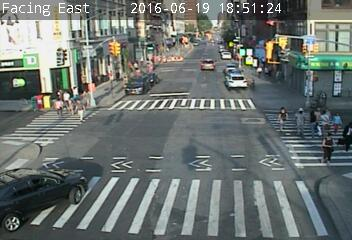neg: (199, 60, 225, 95), (28, 164, 51, 195), (89, 180, 110, 207), (165, 47, 184, 72), (68, 179, 86, 204), (190, 50, 208, 75), (115, 99, 131, 120), (103, 105, 118, 125), (236, 83, 251, 102), (275, 78, 289, 95), (223, 78, 236, 96), (82, 157, 94, 173), (257, 90, 269, 105)
pos: (315, 131, 342, 166), (285, 104, 311, 139), (268, 104, 291, 134), (66, 96, 88, 124), (47, 95, 65, 120), (338, 119, 351, 150), (330, 111, 347, 134), (252, 63, 265, 80)
